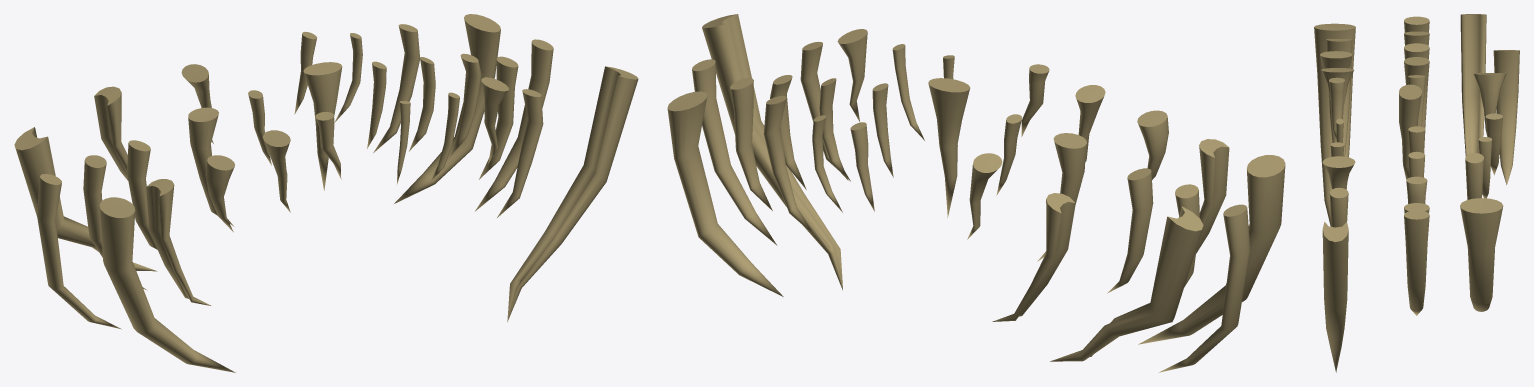
Rendered from SM_StalagbonesArche_Little.fbx.
3 views of the same model, side by side, from view 1: azimuth 30°, elevation 25°; view 2: azimuth 150°, elevation 25°; view 3: azimuth 270°, elevation 25° (orthographic). The views are drawn at different scales.
Visible parts, largest first — view 1: StalagboneArche; view 2: StalagboneArche; view 3: StalagboneArche.
Part boxes in pixels (box(x1,y1,x2,y2)): StalagboneArche: box(14, 14, 638, 372); StalagboneArche: box(667, 14, 1285, 372); StalagboneArche: box(1314, 14, 1519, 372).
Bounding box in the file's own units: 94.79 × 42.28 × 35.64.
